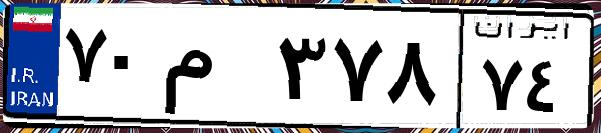0: (110, 28, 158, 98)
3: (270, 28, 330, 110)
4: (525, 38, 570, 115)
7: (330, 28, 385, 110), (57, 26, 110, 100), (475, 38, 525, 113)
8: (385, 28, 445, 110)
م: (158, 20, 270, 120)
